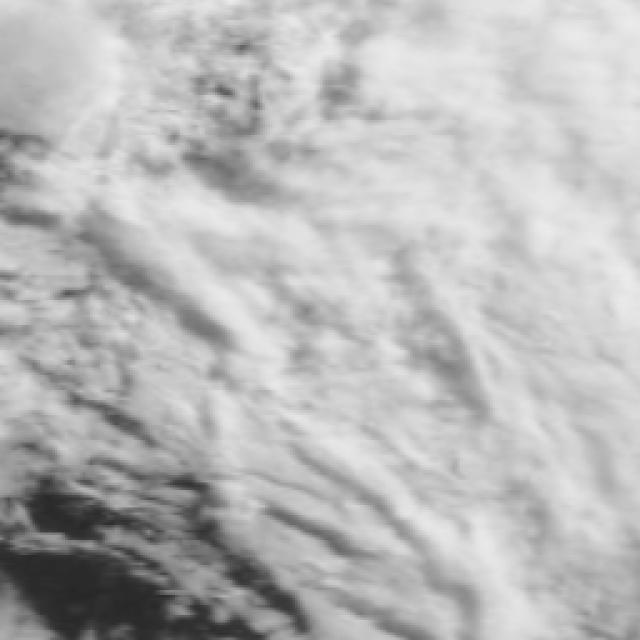CB: (425, 437, 640, 640), (450, 198, 640, 414), (221, 208, 434, 389), (447, 4, 640, 188), (265, 9, 440, 192), (238, 398, 419, 544), (0, 0, 170, 146)
